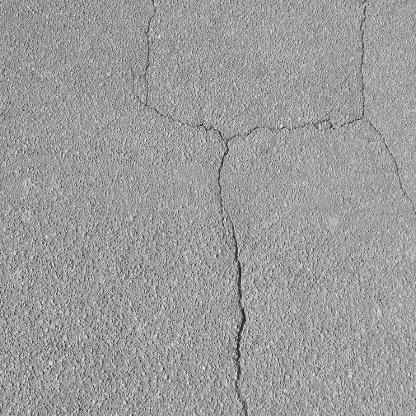Cracks: (212, 140, 259, 416), (149, 106, 375, 136), (363, 117, 416, 224), (134, 0, 166, 109), (355, 0, 380, 121)
